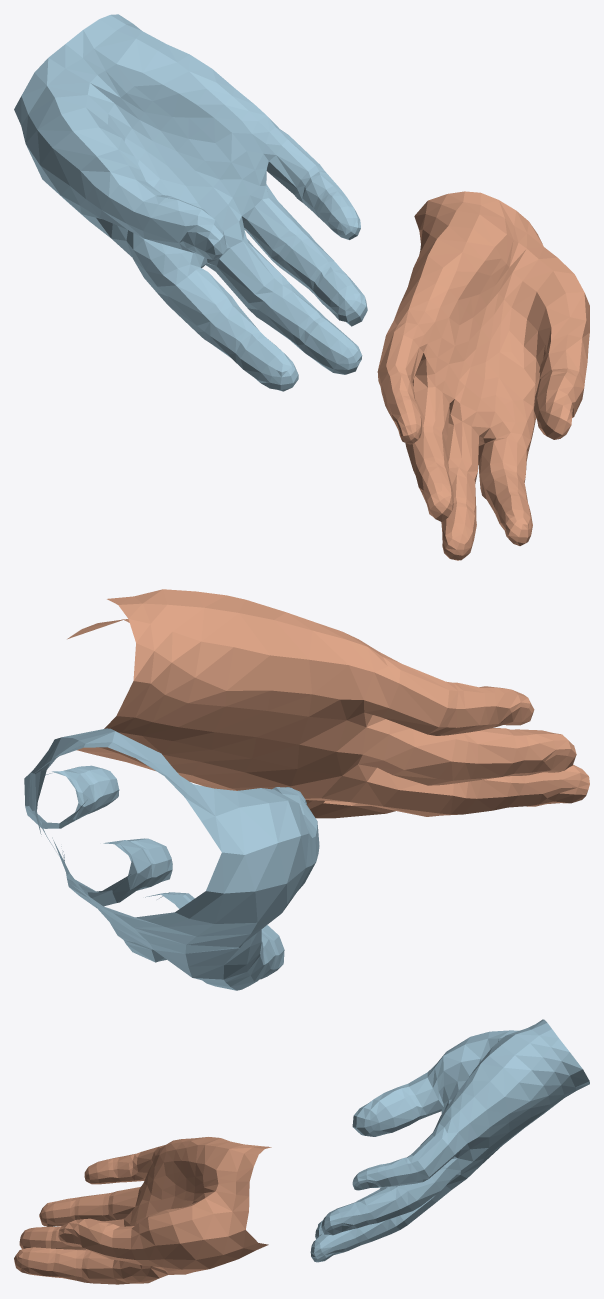
Rendered from frame_004.glb.
3 renders of one model, top to bottom at view 1: azimuth 30°, elevation 25°; view 2: azimuth 150°, elevation 25°; view 3: azimuth 270°, elevation 25°, orthographic. The views are drawn at different scales.
Visible parts, largest first — view 1: world; view 2: world; view 3: world.
Part boxes in pixels (x1,y1,x2,y2): world: [14, 14, 589, 560]; world: [24, 589, 589, 990]; world: [14, 1019, 589, 1284].
Bounding box in the file's own units: 0.154 × 0.1251 × 0.2933.
